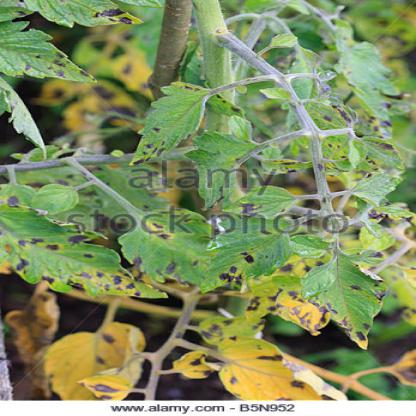Tomato Early blight leaf: (1, 236, 171, 299), (308, 256, 390, 354), (131, 79, 218, 167), (197, 216, 300, 288), (1, 29, 103, 87)
